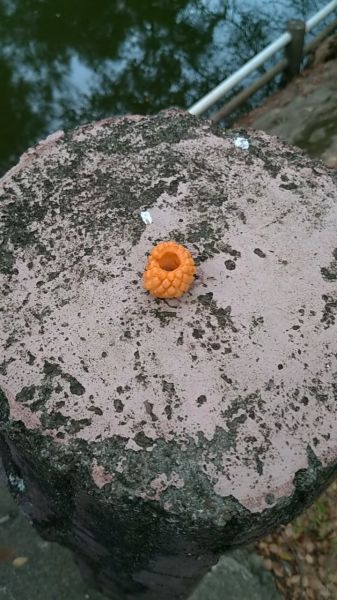eggs: (139, 238, 200, 303)
